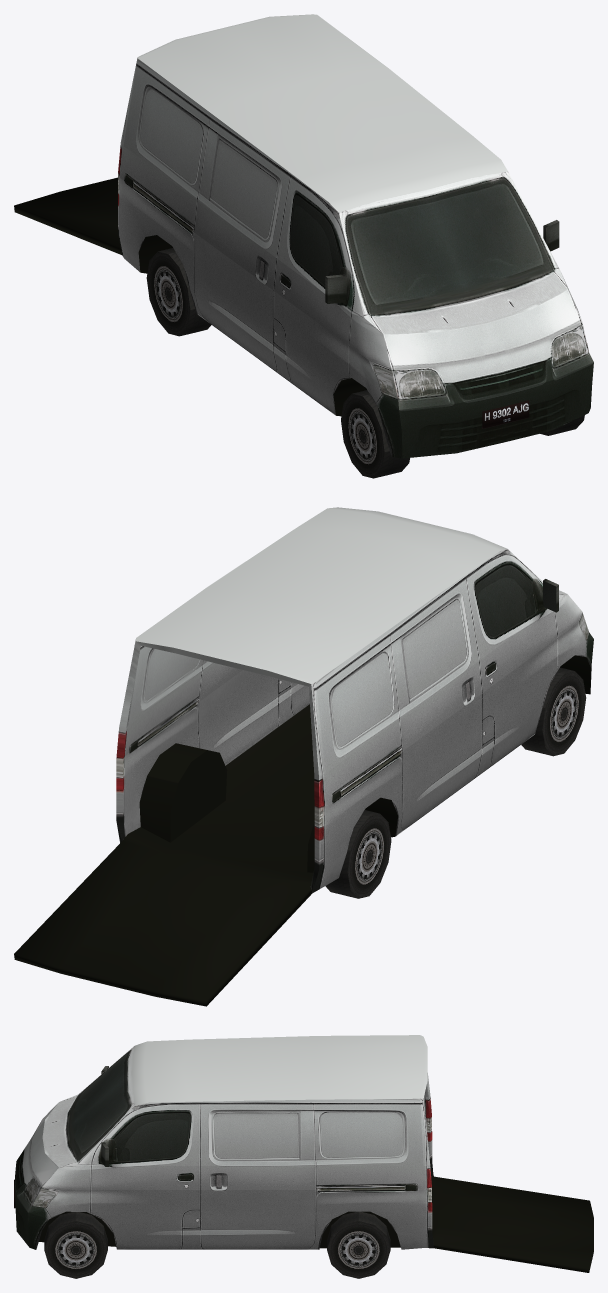
The model's file is Van.fbx.
3 views of the same model, one above another, from view 1: azimuth 30°, elevation 25°; view 2: azimuth 150°, elevation 25°; view 3: azimuth 270°, elevation 25° (orthographic). The views are drawn at different scales.
Visible parts, largest first — view 1: Plane.003, wheel.004, wheel.005; view 2: Plane.003, wheel.005, wheel.004; view 3: Plane.003, wheel.007, wheel.006.
Part boxes in pixels (x1=…): Plane.003: x1=14, y1=14, x2=593, y2=458; wheel.004: x1=341, y1=390, x2=409, y2=478; wheel.005: x1=146, y1=248, x2=211, y2=336; Plane.003: x1=14, y1=507, x2=593, y2=1006; wheel.005: x1=325, y1=810, x2=391, y2=898; wheel.004: x1=521, y1=667, x2=586, y2=756; Plane.003: x1=14, y1=1035, x2=593, y2=1272; wheel.007: x1=327, y1=1211, x2=390, y2=1278; wheel.006: x1=44, y1=1212, x2=107, y2=1278.
Size of the model in its own units: 183 by 187 by 545.
